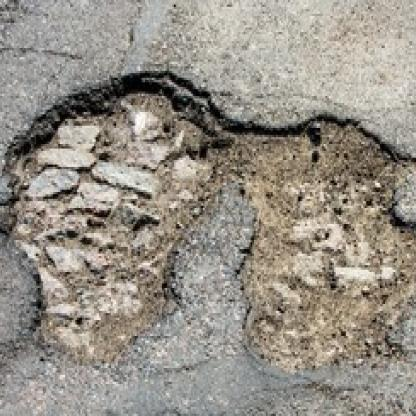pothole: (0, 62, 215, 366), (234, 107, 416, 384)
